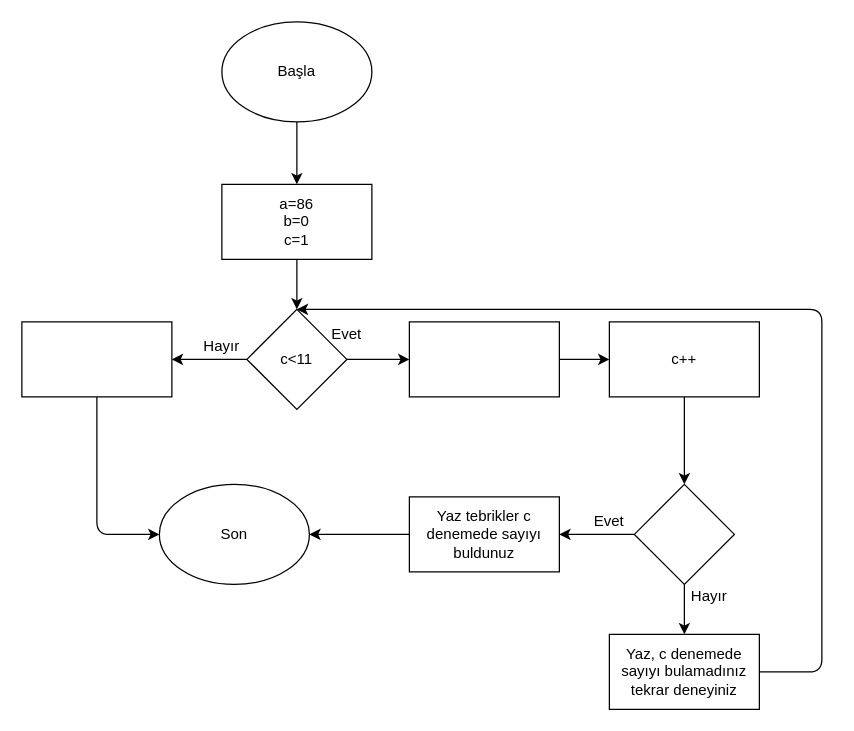
This 854x731 diagram has some shape labels left out. The shapes that lost their labels are listed below. From the top down, each one's centre as x and y in pixels, then its label:
point (96, 359): Yaz, 10 denemede sayıyı bulamadınız
point (483, 359): 0 ile 100 arası sayı gir, b
point (683, 533): a==b
